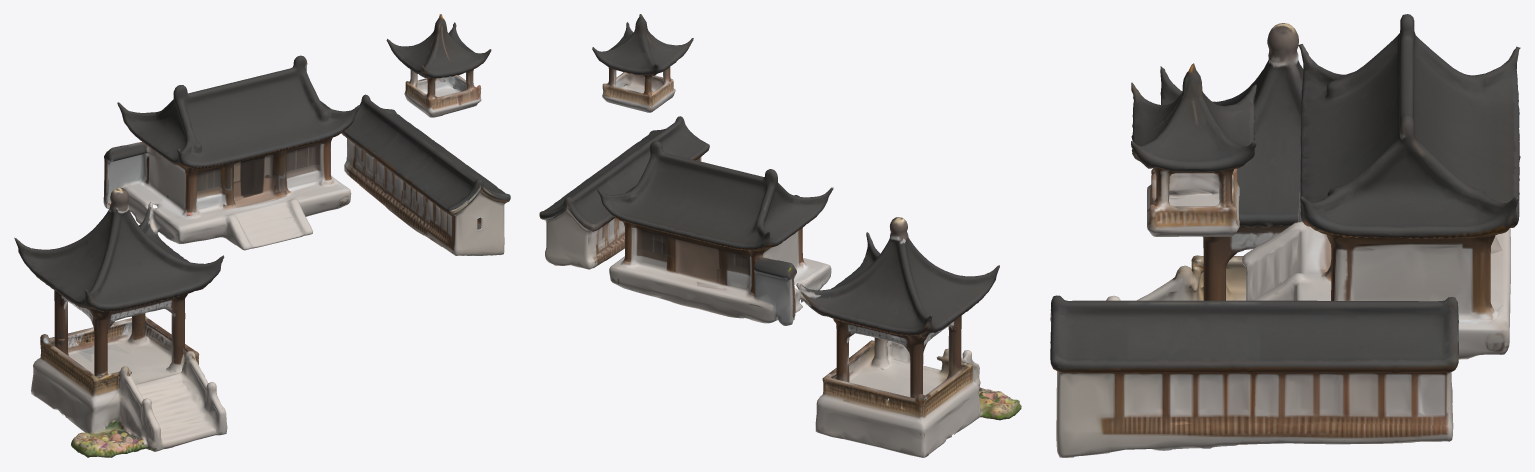
3 views of the same model, side by side, from view 1: azimuth 30°, elevation 25°; view 2: azimuth 150°, elevation 25°; view 3: azimuth 270°, elevation 25° (orthographic). The views are drawn at different scales.
Parts seen in each view (by area): view 1: material.001; view 2: material.001; view 3: material.001.
Part boxes in pixels (x1=…): material.001: x1=14, y1=14, x2=510, y2=457; material.001: x1=539, y1=14, x2=1021, y2=457; material.001: x1=1050, y1=14, x2=1520, y2=457.
Size of the model in its own units: 0.9126 by 0.7163 by 0.5276.
Materials: 1 (1 with a texture image).
